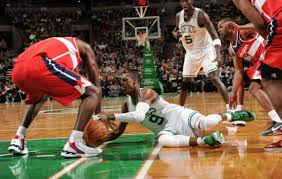10+: (1, 1, 282, 160)
down: (109, 72, 233, 159)
